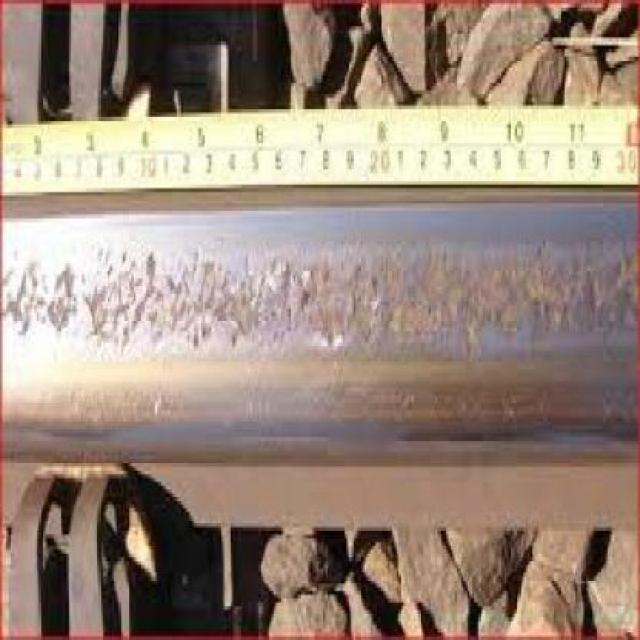defective: (1, 103, 640, 640)
